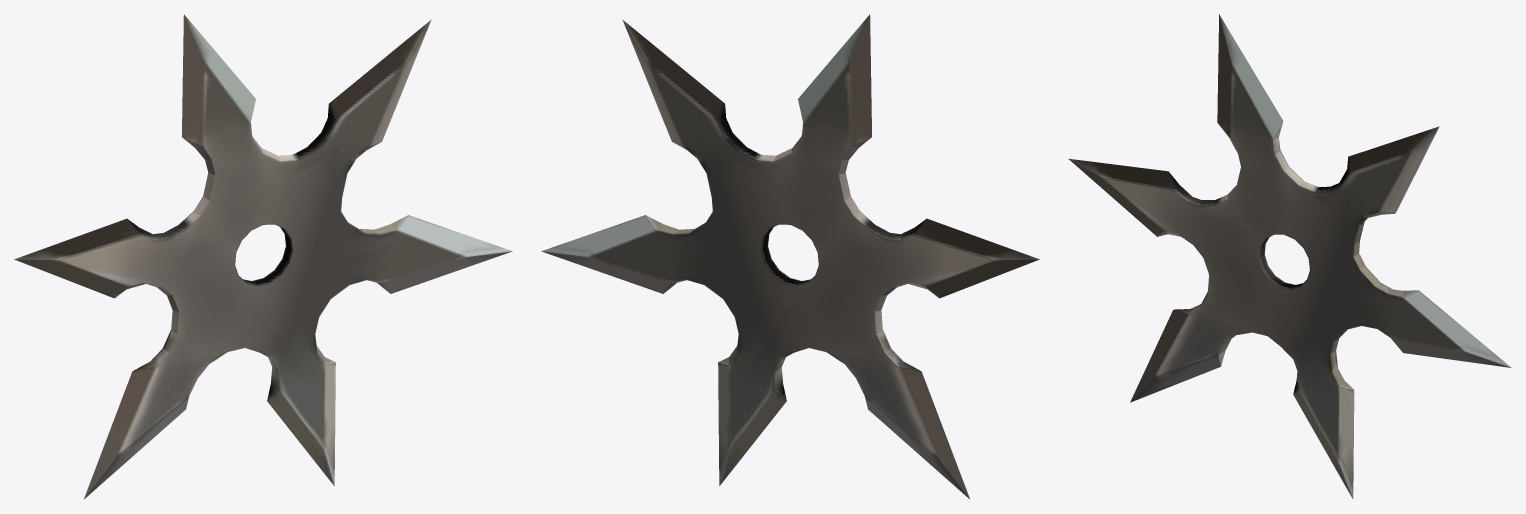
File: shuriken.obj
3 renders of one model, left to right at view 1: azimuth 30°, elevation 25°; view 2: azimuth 150°, elevation 25°; view 3: azimuth 330°, elevation 25°, orthographic. The views are drawn at different scales.
Visible parts, largest first — view 1: shuriken; view 2: shuriken; view 3: shuriken.
Part boxes in pixels (left/top/right/bottom): shuriken: left=14, top=14, right=512, bottom=498; shuriken: left=541, top=14, right=1039, bottom=498; shuriken: left=1068, top=14, right=1511, bottom=499.
Size of the model in its own units: 1 by 0.9756 by 0.0224.
